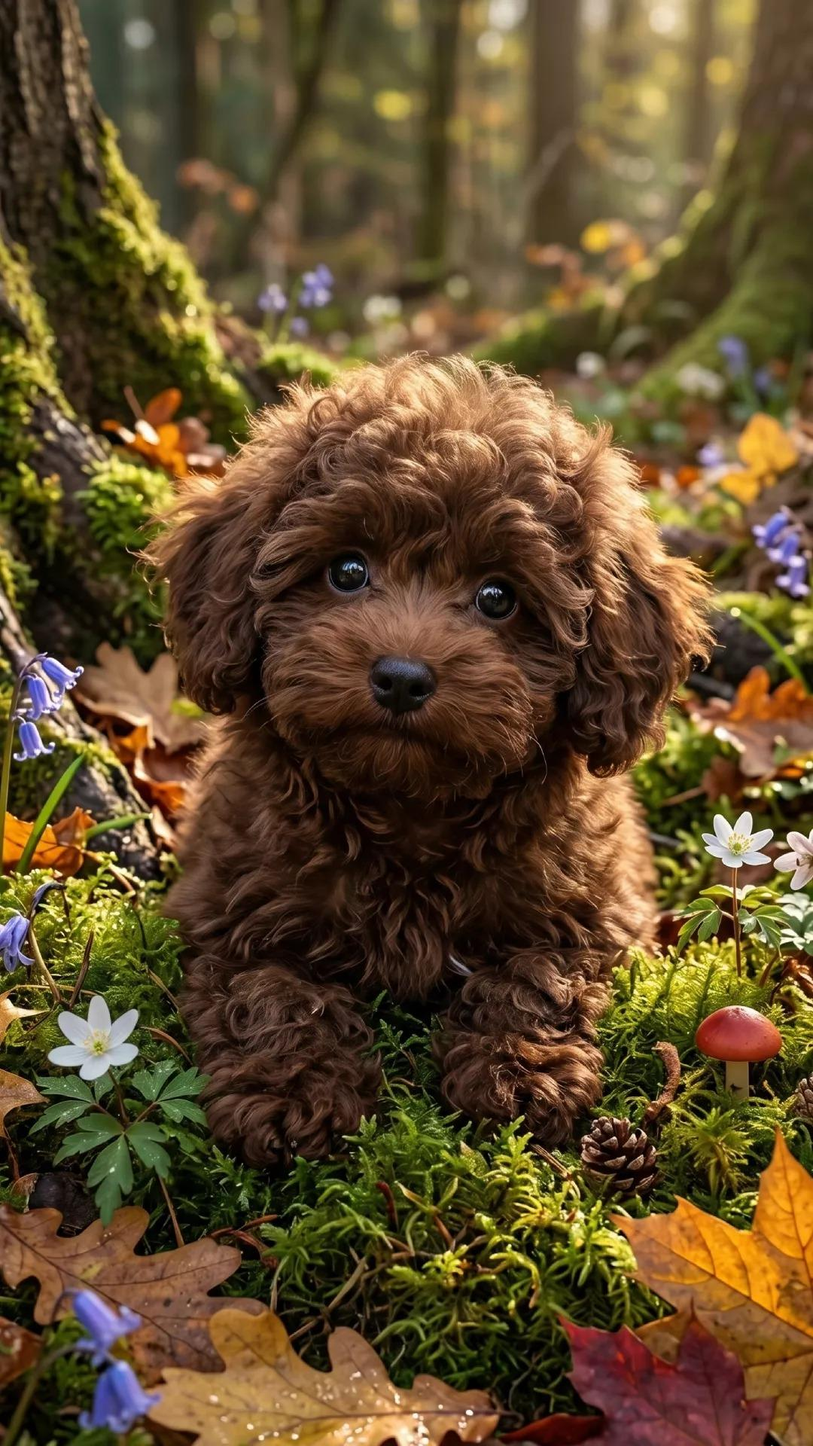puppy-dog: (138, 347, 721, 1173)
